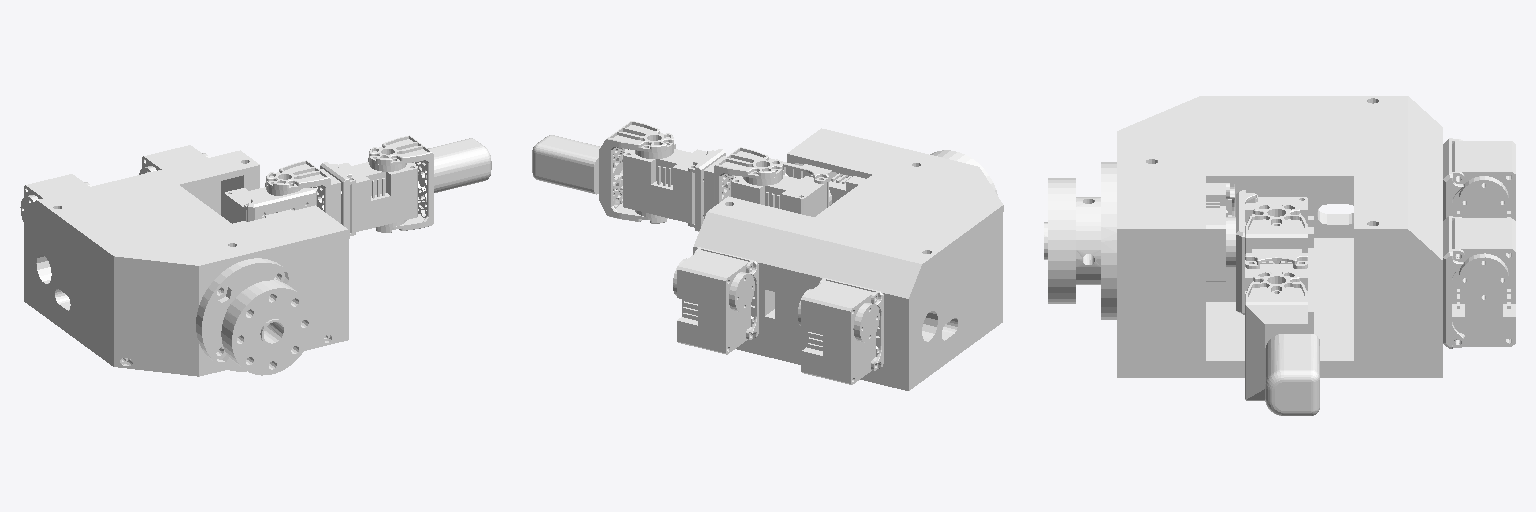
The robot description file, URDF, robot "GX11":
<?xml version="1.0" encoding="utf-8"?>
<!-- This URDF was automatically created by SolidWorks to URDF Exporter! Originally created by Stephen Brawner (brawner@gmail.com) 
     Commit Version: 1.6.0-4-g7f85cfe  Build Version: 1.6.7995.38578
     For more information, please see http://wiki.ros.org/sw_urdf_exporter -->
<robot
  name="GX11">
  <link
    name="base_link">
    <inertial>
      <origin
        xyz="-0.000164465254966286 0.0753636764228905 -0.000506878057324069"
        rpy="0 0 0" />
      <mass
        value="0.266277587847292" />
      <inertia
        ixx="0.000187302227077025"
        ixy="1.5370580827788E-05"
        ixz="6.53664500625844E-06"
        iyy="0.000234511583653576"
        iyz="-7.69527139734874E-06"
        izz="0.000333571603957182" />
    </inertial>
    <visual>
      <origin
        xyz="0 0 0"
        rpy="0 0 0" />
      <geometry>
        <mesh
          filename="meshes/base_link.STL" />
      </geometry>
      <material
        name="">
        <color
          rgba="1 1 1 1" />
      </material>
    </visual>
    <collision>
      <origin
        xyz="0 0 0"
        rpy="0 0 0" />
      <geometry>
        <mesh
          filename="meshes/base_link.STL" />
      </geometry>
    </collision>
  </link>
  <link
    name="link1">
    <inertial>
      <origin
        xyz="-0.00806405790907332 -0.000279377679083986 -0.00113281933961043"
        rpy="0 0 0" />
      <mass
        value="0.0176678393044671" />
      <inertia
        ixx="1.47006653227034E-06"
        ixy="1.17278886070137E-08"
        ixz="4.36396719283536E-15"
        iyy="2.21216244462258E-06"
        iyz="-1.53911853230504E-16"
        izz="2.71458475514186E-06" />
    </inertial>
    <visual>
      <origin
        xyz="0 0 0"
        rpy="0 0 0" />
      <geometry>
        <mesh
          filename="meshes/link1.STL" />
      </geometry>
      <material
        name="">
        <color
          rgba="1 1 1 1" />
      </material>
    </visual>
    <collision>
      <origin
        xyz="0 0 0"
        rpy="0 0 0" />
      <geometry>
        <mesh
          filename="meshes/link1.STL" />
      </geometry>
    </collision>
  </link>
  <joint
    name="joint1"
    type="revolute">
    <origin
      xyz="0.0330000000000006 0.0735000000000002 0.0150000000000006"
      rpy="1.5707963267949 0 -3.14159265358979" />
    <parent
      link="base_link" />
    <child
      link="link1" />
    <axis
      xyz="0 0 -1" />
    <limit
      lower="-0.349"
      upper="2.049"
      effort="0"
      velocity="0" />
  </joint>
  <link
    name="link2">
    <inertial>
      <origin
        xyz="0.0364441226647731 1.69664629567912E-14 -0.000227157618897906"
        rpy="0 0 0" />
      <mass
        value="0.021729405455091" />
      <inertia
        ixx="2.15176535186668E-06"
        ixy="5.80286874153467E-18"
        ixz="-1.17278836895553E-08"
        iyy="3.16845263970642E-06"
        iyz="1.34205099819563E-18"
        izz="2.34350105652615E-06" />
    </inertial>
    <visual>
      <origin
        xyz="0 0 0"
        rpy="0 0 0" />
      <geometry>
        <mesh
          filename="meshes/link2.STL" />
      </geometry>
      <material
        name="">
        <color
          rgba="1 1 1 1" />
      </material>
    </visual>
    <collision>
      <origin
        xyz="0 0 0"
        rpy="0 0 0" />
      <geometry>
        <mesh
          filename="meshes/link2.STL" />
      </geometry>
    </collision>
  </link>
  <joint
    name="joint2"
    type="revolute">
    <origin
      xyz="-0.015 0 0"
      rpy="1.5707963267949 0 3.14159265358979" />
    <parent
      link="link1" />
    <child
      link="link2" />
    <axis
      xyz="0 0 1" />
    <limit
      lower="-1.9"
      upper="1.2"
      effort="0"
      velocity="0" />
  </joint>
  <link
    name="link3">
    <inertial>
      <origin
        xyz="0.0100787253876422 2.82144967111986E-13 -1.36311968657044E-12"
        rpy="0 0 0" />
      <mass
        value="0.00246574345897091" />
      <inertia
        ixx="5.18359333243009E-07"
        ixy="3.43589587907983E-18"
        ixz="-2.71094054875865E-17"
        iyy="5.59493403624435E-07"
        iyz="2.78028007694911E-18"
        izz="2.11674207292557E-07" />
    </inertial>
    <visual>
      <origin
        xyz="0 0 0"
        rpy="0 0 0" />
      <geometry>
        <mesh
          filename="meshes/link3.STL" />
      </geometry>
      <material
        name="">
        <color
          rgba="1 1 1 1" />
      </material>
    </visual>
    <collision>
      <origin
        xyz="0 0 0"
        rpy="0 0 0" />
      <geometry>
        <mesh
          filename="meshes/link3.STL" />
      </geometry>
    </collision>
  </link>
  <joint
    name="joint3"
    type="revolute">
    <origin
      xyz="0.0505 0 0"
      rpy="0 0 0" />
    <parent
      link="link2" />
    <child
      link="link3" />
    <axis
      xyz="0 0 1" />
    <limit
      lower="-1.88"
      upper="1.34"
      effort="0"
      velocity="0" />
  </joint>
  <link
    name="link12">
    <inertial>
      <origin
        xyz="3.46944695195361E-17 -0.00898026519389988 -0.0145655012265942"
        rpy="0 0 0" />
      <mass
        value="0.00894831293844984" />
      <inertia
        ixx="1.08600924376269E-06"
        ixy="8.01381529860204E-23"
        ixz="2.56978183344234E-22"
        iyy="1.09973813711699E-06"
        iyz="-7.62246403180969E-08"
        izz="4.62359953629273E-07" />
    </inertial>
    <visual>
      <origin
        xyz="0 0 0"
        rpy="0 0 0" />
      <geometry>
        <mesh
          filename="meshes/link12.STL" />
      </geometry>
      <material
        name="">
        <color
          rgba="1 1 1 1" />
      </material>
    </visual>
    <collision>
      <origin
        xyz="0 0 0"
        rpy="0 0 0" />
      <geometry>
        <mesh
          filename="meshes/link12.STL" />
      </geometry>
    </collision>
  </link>
  <joint
    name="joint12"
    type="fixed">
    <origin
      xyz="0.0469999999999999 0.0137000000000001 0"
      rpy="0 1.5707963267949 0" />
    <parent
      link="link3" />
    <child
      link="link12" />
    <axis
      xyz="0 0 0" />
  </joint>
</robot>

--- What the picture shows (computed from the rendered views, not written in the file) ---
3 views of the same robot in one strip: view 1: azimuth 30°, elevation 25°; view 2: azimuth 150°, elevation 25°; view 3: azimuth 270°, elevation 25° (orthographic).
Model GX11 with 5 links and 4 joints (3 revolute, 1 fixed), rooted at base_link, posed every joint at zero.
Visible links, largest first — view 1: base_link, link2, link3, link12, link1; view 2: base_link, link2, link12, link1, link3; view 3: base_link, link12, link2, link3, link1.
Link boxes in pixels (box(x1,y1,x2,y2)): base_link: box(20, 145, 348, 376); link2: box(266, 157, 417, 238); link3: box(369, 135, 433, 232); link12: box(418, 138, 491, 192); link1: box(225, 182, 316, 223); base_link: box(673, 128, 1003, 390); link2: box(623, 144, 782, 231); link12: box(532, 135, 622, 212); link1: box(731, 158, 828, 216); link3: box(606, 121, 673, 223); base_link: box(1044, 96, 1515, 377); link12: box(1246, 305, 1319, 415); link2: box(1245, 203, 1307, 293); link3: box(1245, 271, 1307, 400); link1: box(1236, 190, 1307, 314).
Size in the robot's own frame: 0.1985 by 0.149 by 0.0573 metres.
5 mesh visuals loaded from 5 distinct referenced files (5 binary STL).
